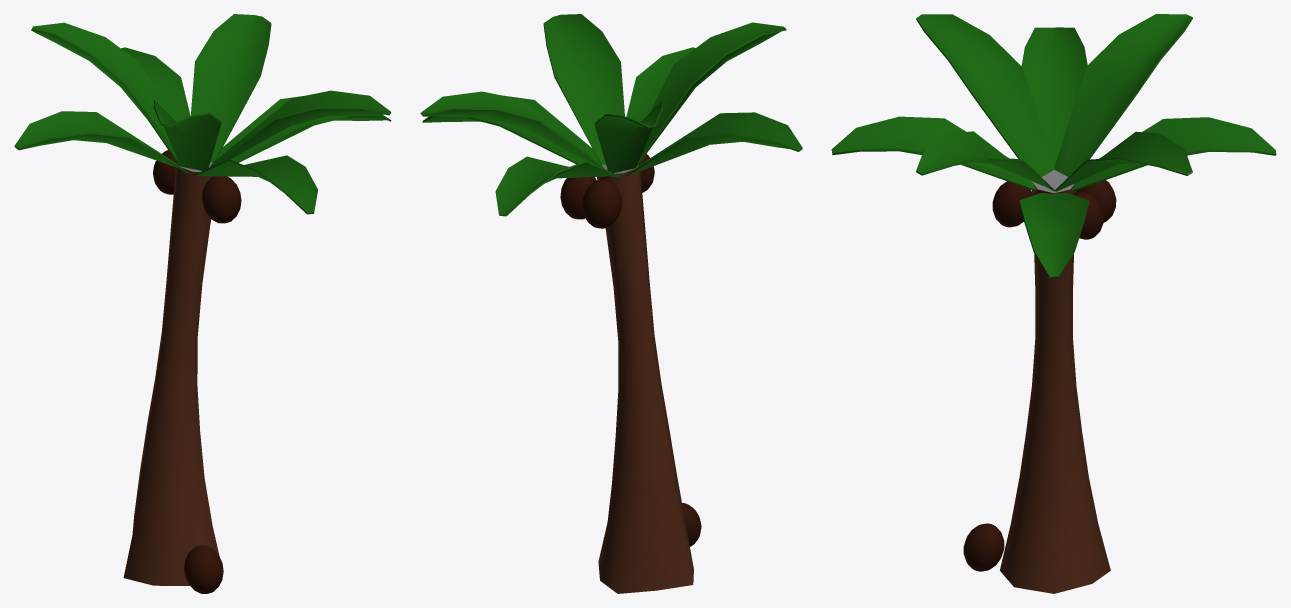
File: Arbre.fbx
The picture shows the model from 3 angles, left to right: view 1: azimuth 30°, elevation 25°; view 2: azimuth 150°, elevation 25°; view 3: azimuth 270°, elevation 25°; orthographic projection. The views are drawn at different scales.
Visible parts, largest first — view 1: Cylinder001, Sphere004, Sphere003, Sphere001; view 2: Cylinder001, Sphere001, Sphere002, Sphere004; view 3: Cylinder001, Sphere004, Sphere003, Sphere002, Sphere001.
Part boxes in pixels (box(x1,y1,x2,y2)): Cylinder001: box(14, 14, 391, 585); Sphere004: box(184, 545, 223, 593); Sphere003: box(202, 176, 241, 223); Sphere001: box(153, 150, 176, 194); Cylinder001: box(420, 14, 802, 593); Sphere001: box(582, 179, 621, 228); Sphere002: box(560, 177, 596, 219); Sphere004: box(682, 503, 701, 546); Cylinder001: box(831, 14, 1276, 593); Sphere004: box(963, 523, 1004, 571); Sphere003: box(992, 181, 1032, 227); Sphere002: box(1072, 191, 1103, 239); Sphere001: box(1076, 180, 1116, 222).
Size of the model in its own units: 114 by 149 by 115.
